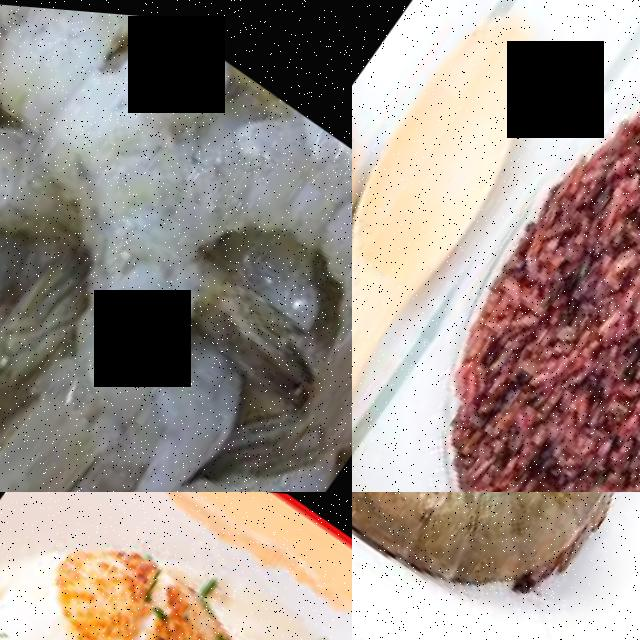red rice: (380, 1, 640, 492)
sea scallops: (0, 493, 261, 640)
shrimp: (0, 48, 241, 284), (175, 75, 352, 350), (0, 292, 185, 492), (411, 492, 640, 627), (352, 492, 569, 621), (0, 68, 74, 324)
